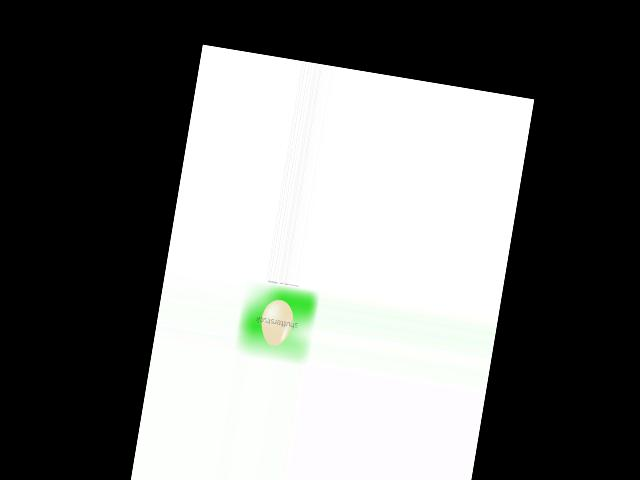egg: (257, 297, 295, 348)
